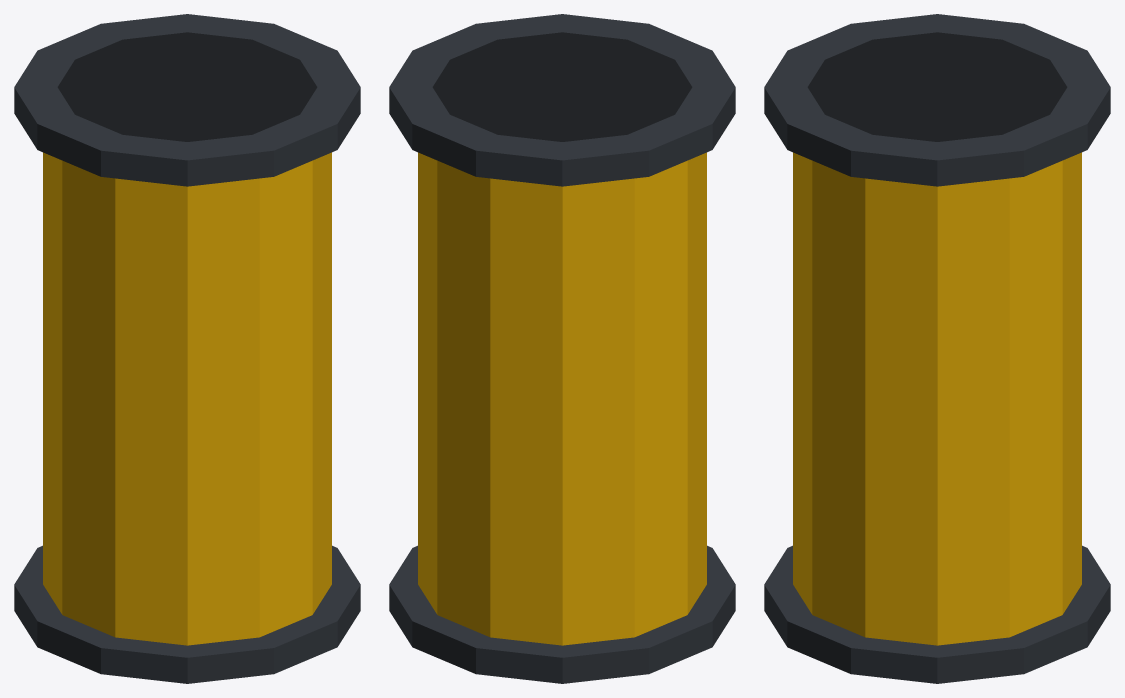
File: Pipe_0.5x1.fbx
The picture shows the model from 3 angles, left to right: view 1: azimuth 30°, elevation 25°; view 2: azimuth 150°, elevation 25°; view 3: azimuth 270°, elevation 25°; orthographic projection.
Visible parts, largest first — view 1: Pipe_0.5x1; view 2: Pipe_0.5x1; view 3: Pipe_0.5x1.
Boxes of the visible parts, x1=… form: Pipe_0.5x1: x1=14, y1=14, x2=360, y2=683; Pipe_0.5x1: x1=389, y1=14, x2=735, y2=683; Pipe_0.5x1: x1=764, y1=14, x2=1110, y2=683.
Bounding box in the file's own units: 60 × 100 × 60.
